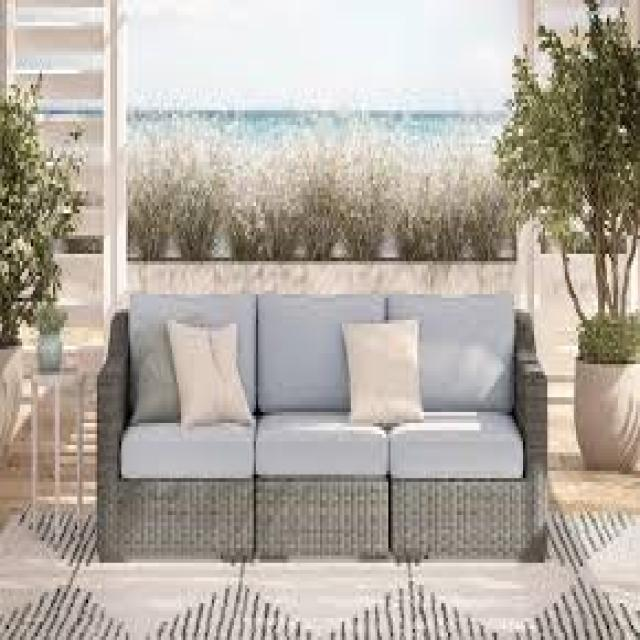Sofa: (94, 277, 554, 593)
Table: (26, 348, 87, 529)
